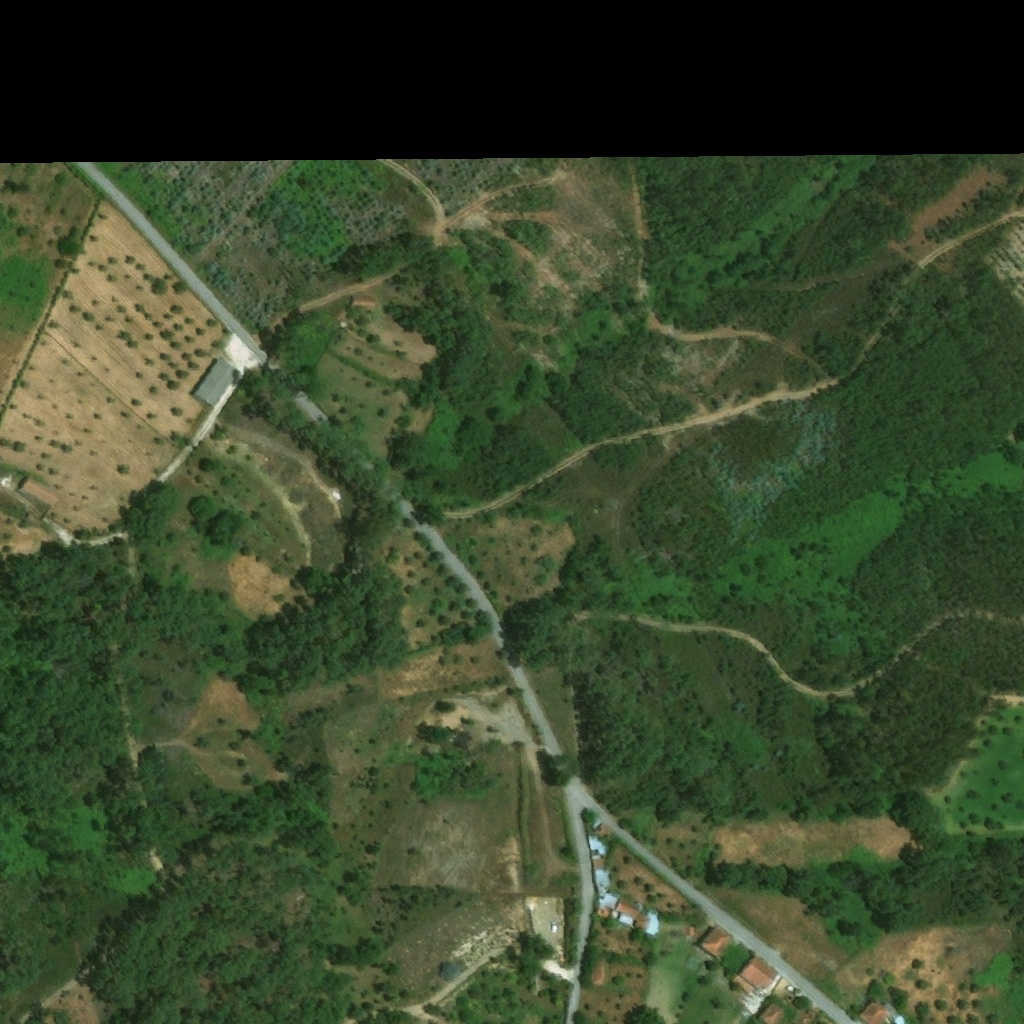0 no-damage: (192, 356, 240, 410), (737, 952, 785, 998), (17, 476, 62, 508), (699, 925, 736, 961), (588, 823, 615, 860), (790, 1003, 823, 1023), (858, 1001, 887, 1023), (758, 1001, 787, 1023), (637, 911, 661, 937), (592, 857, 613, 886), (885, 1001, 912, 1023), (616, 898, 644, 919), (591, 952, 607, 985), (594, 892, 618, 911), (616, 910, 636, 928), (351, 295, 376, 307), (795, 988, 808, 997), (550, 916, 555, 925)
